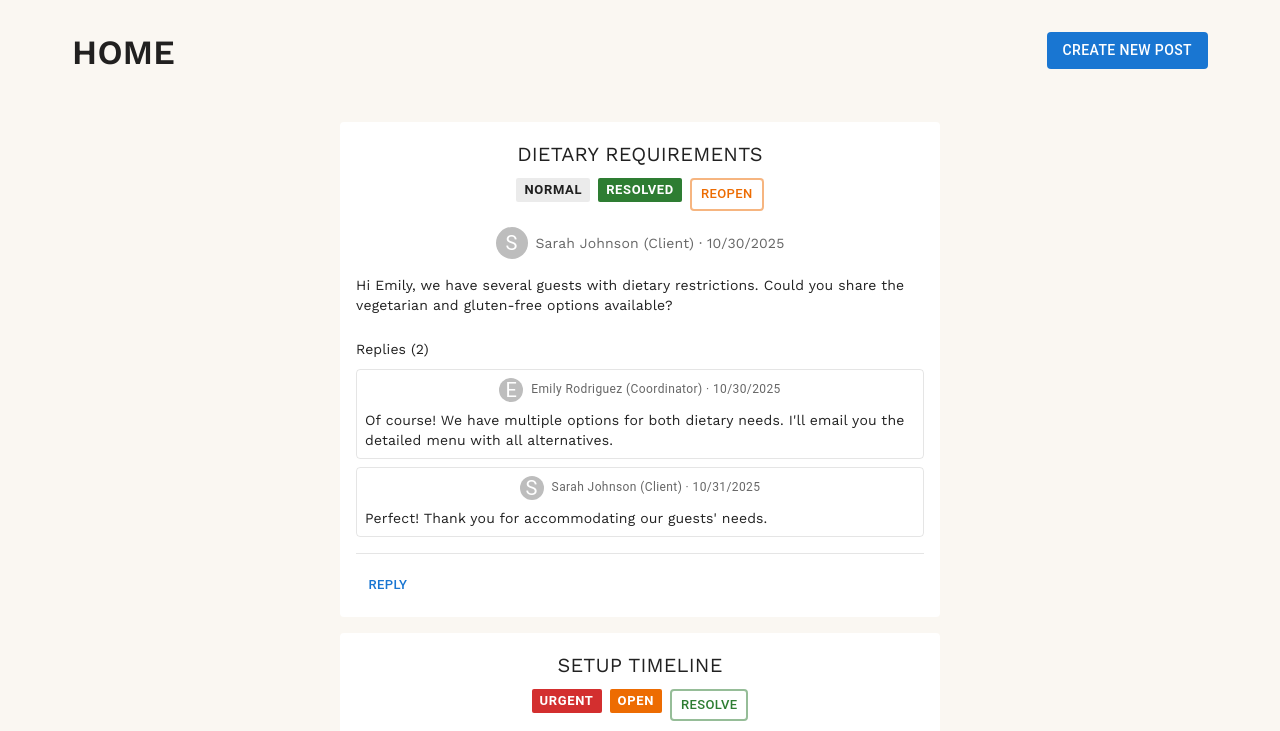
Test case: Discussions Page › Reply Functionality › successfully adds a reply when text is entered and posted
Click the button "Reply" at (388, 585), box [356,570,420,601]
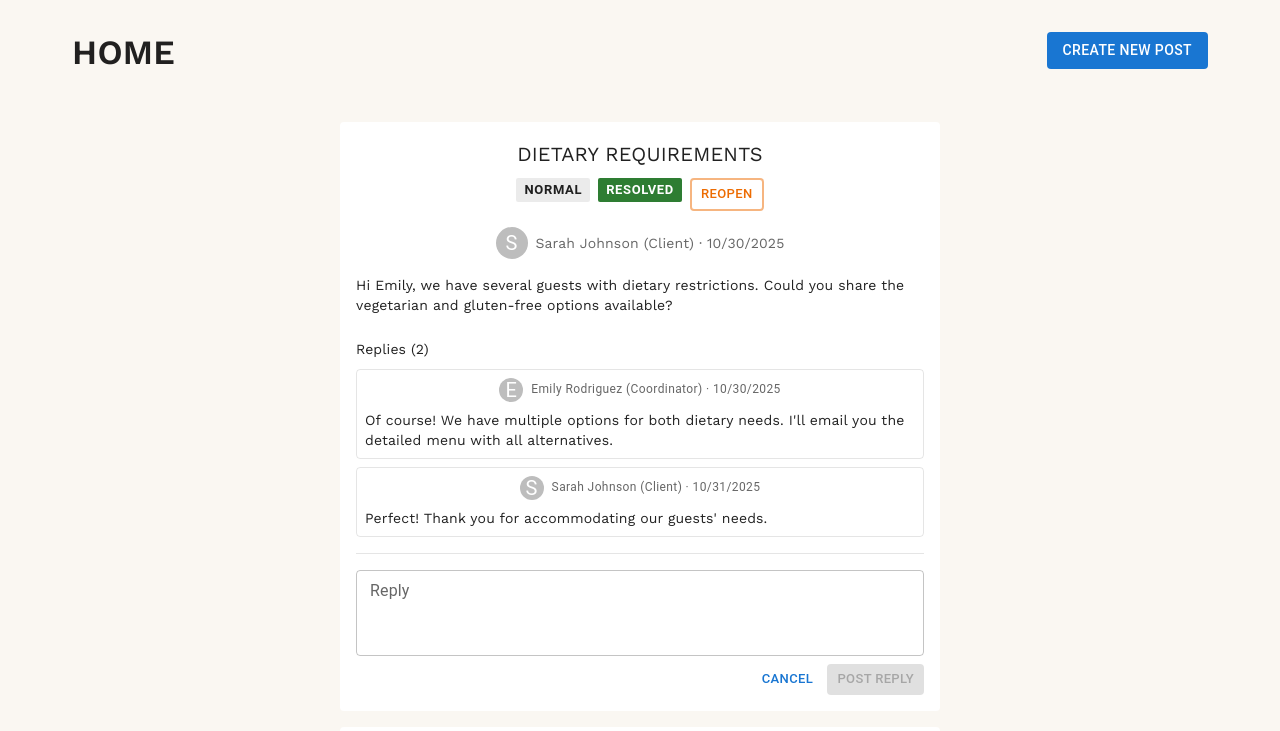
Type "This is my test reply" into the text box with placeholder "Write your reply..." at (640, 613), box [370,578,910,647]
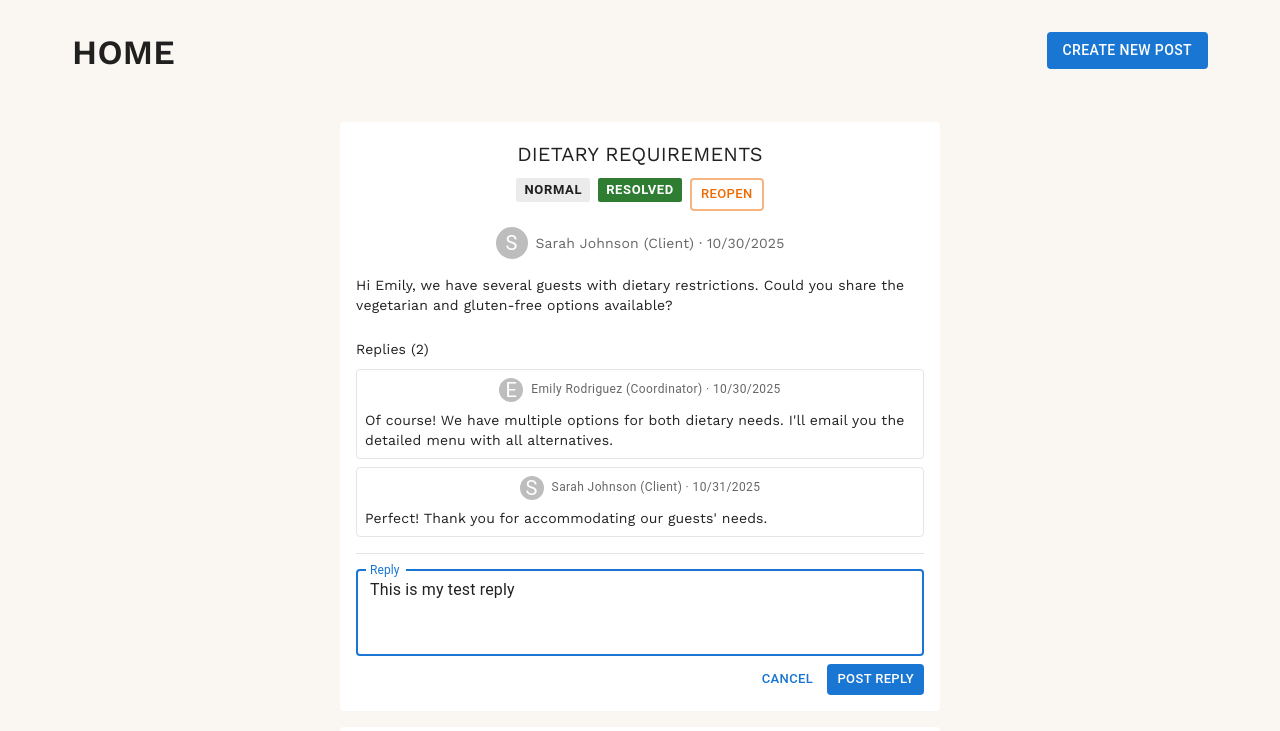
Expected: the button "Post Reply" is enabled
Click the button "Post Reply" at (876, 679), box [827,664,924,695]
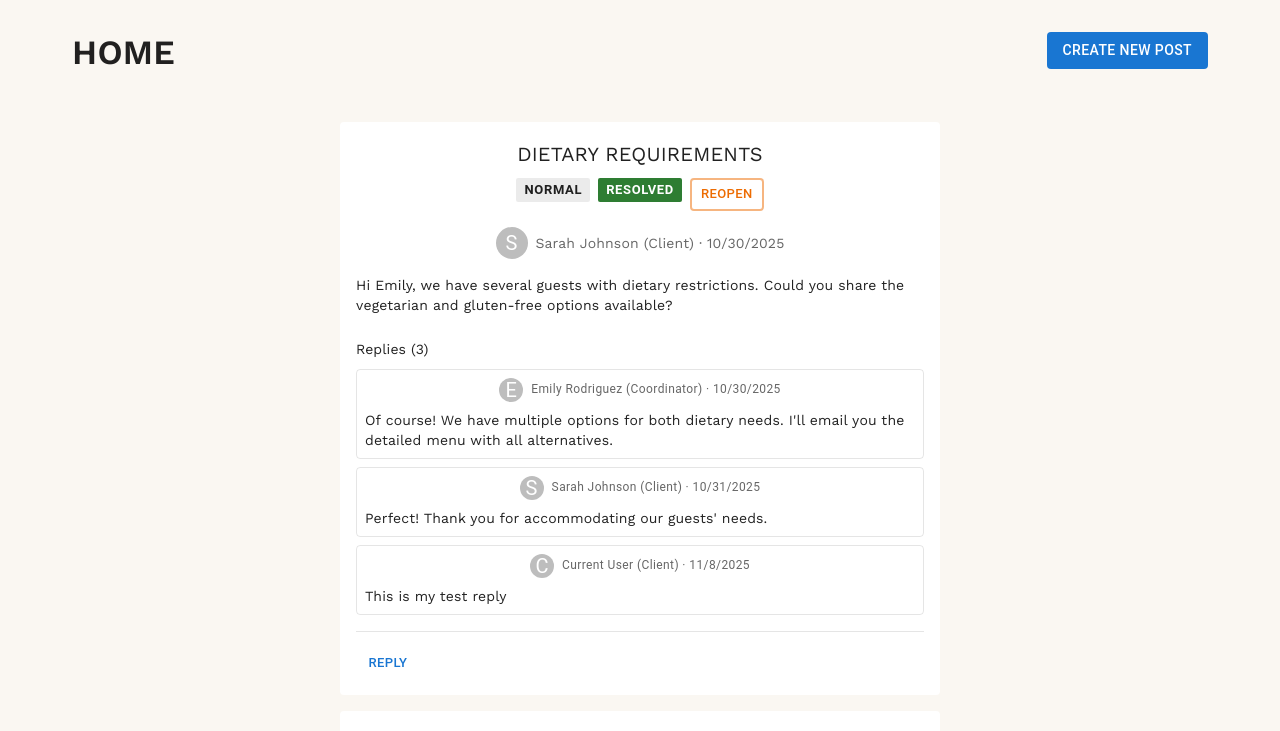
Expected: the text "This is my test reply" is shown, [365,588,507,604]
